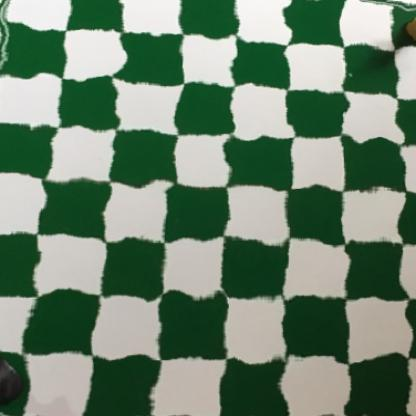black-queen: (0, 358, 22, 416)
white-queen: (403, 0, 416, 50)
